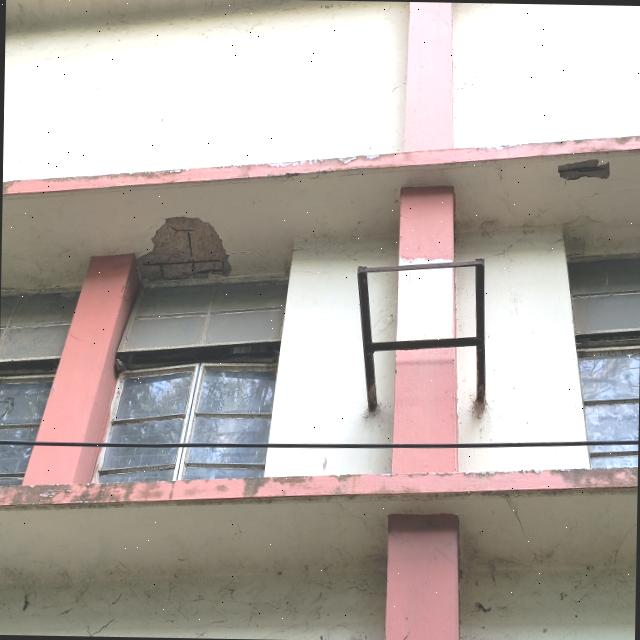spalling: (140, 216, 229, 279), (557, 159, 609, 180)
